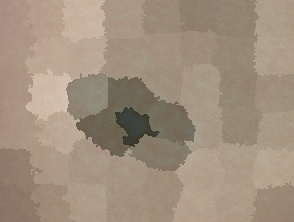vitiligo: (30, 47, 215, 193)
